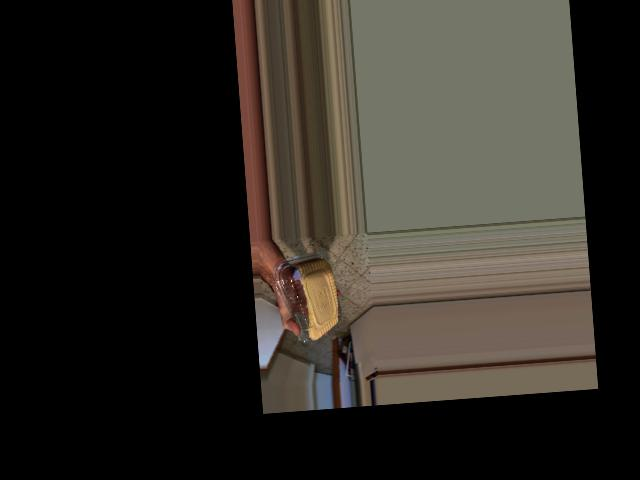cheese: (289, 246, 331, 324)
